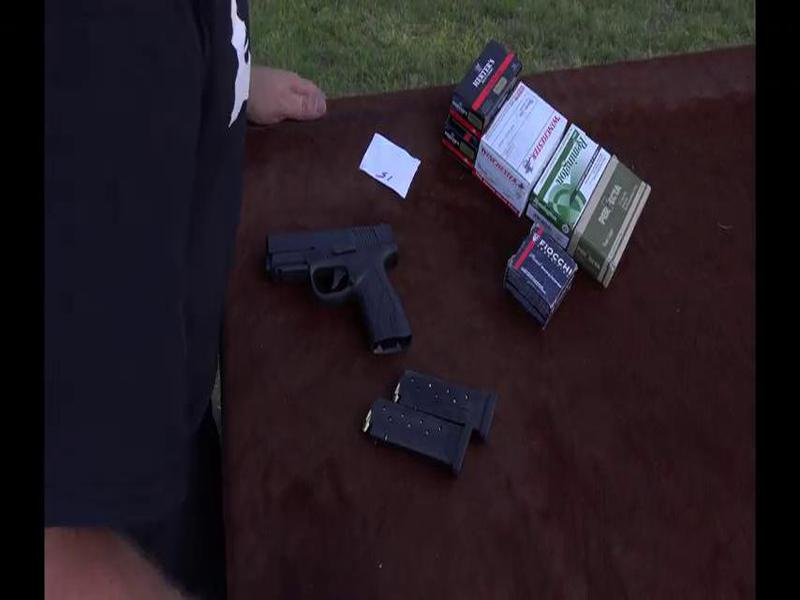Pistola: (263, 215, 425, 358)
